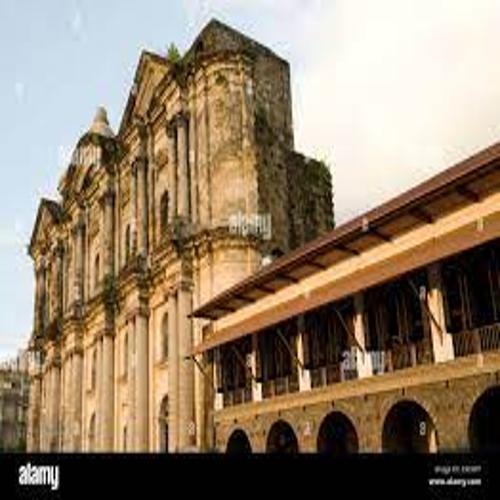Taal Basilica Church: (23, 16, 314, 452)
